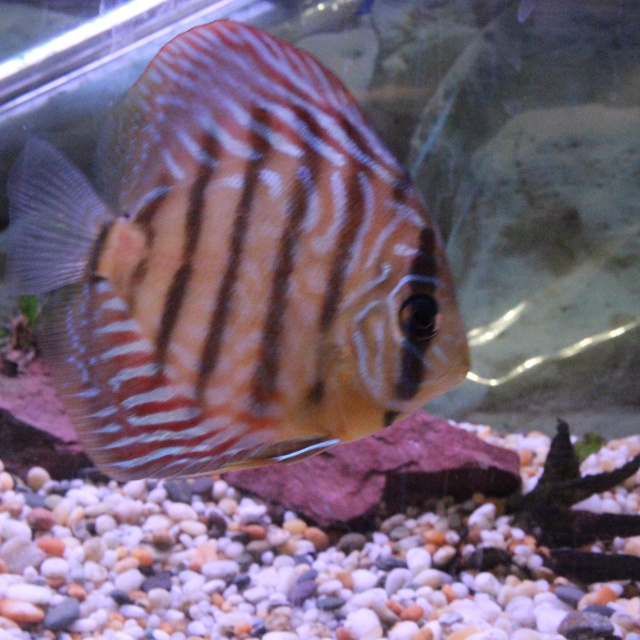Fish: (0, 23, 473, 482)
